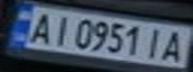0: (69, 16, 97, 51)
1: (121, 24, 145, 57)
5: (106, 20, 127, 55)
9: (87, 18, 112, 53)
A: (21, 9, 57, 44), (157, 28, 190, 63)
I: (45, 12, 75, 47), (142, 26, 169, 61)
